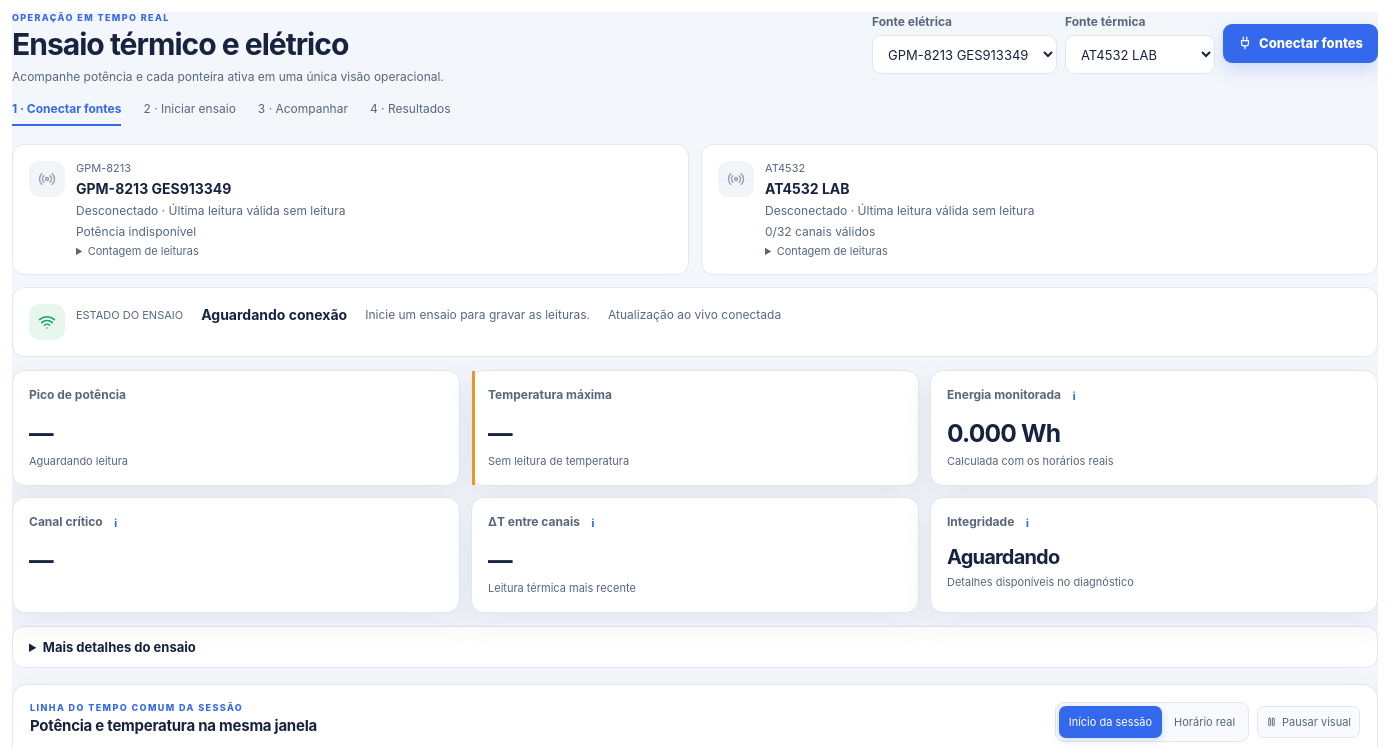
conexão parcial da dashboard › mantém a fonte saudável quando thermal falha
This screenshot has width=1390, height=748.
Click the button "Conectar fontes" at x=1300, y=43, box [1223,24,1378,63]
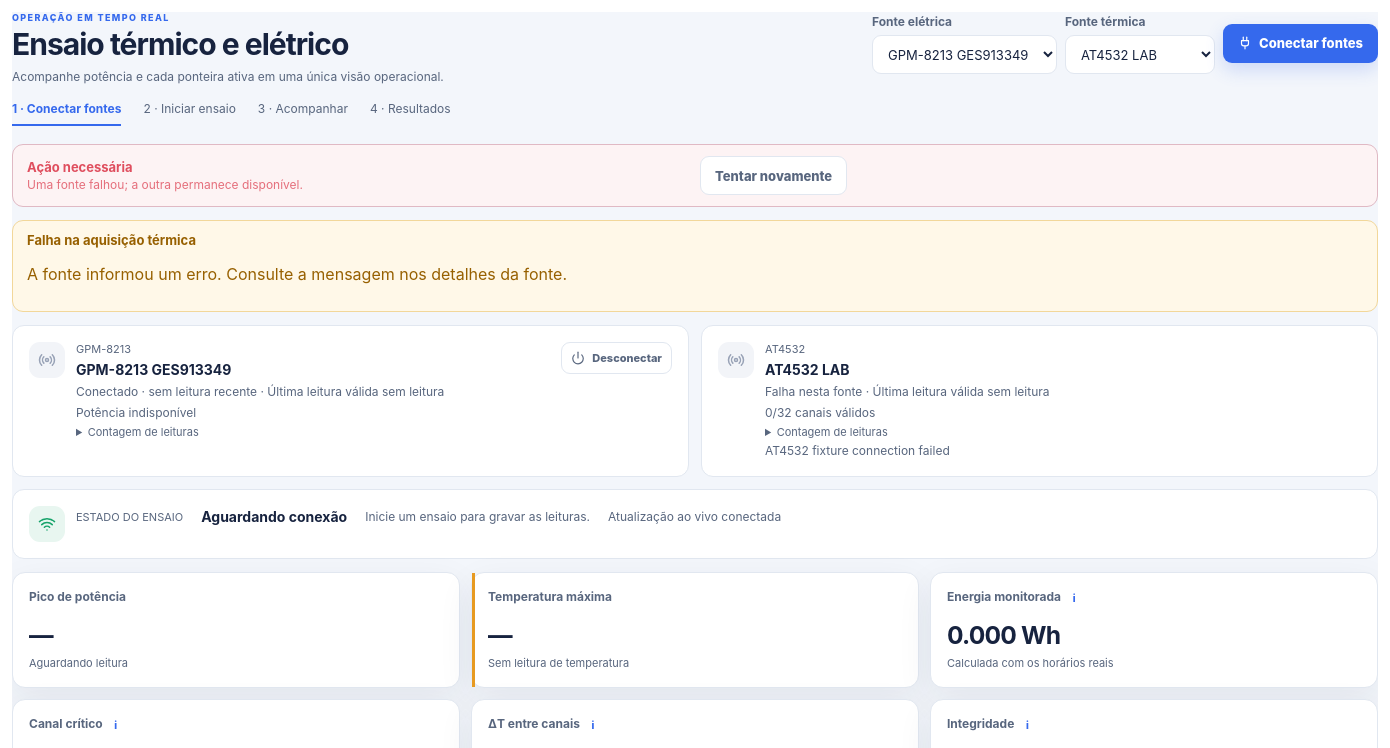
Check: the text "Uma fonte falhou; a outra permanece disponível." is shown, box [27,177,303,192]
Check: the text "AT4532 fixture connection failed" is shown, box [765,443,950,458]
Check: the text "Falha nesta fonte · Última leitura válida sem leitura" is shown, box [765,384,1050,399]
